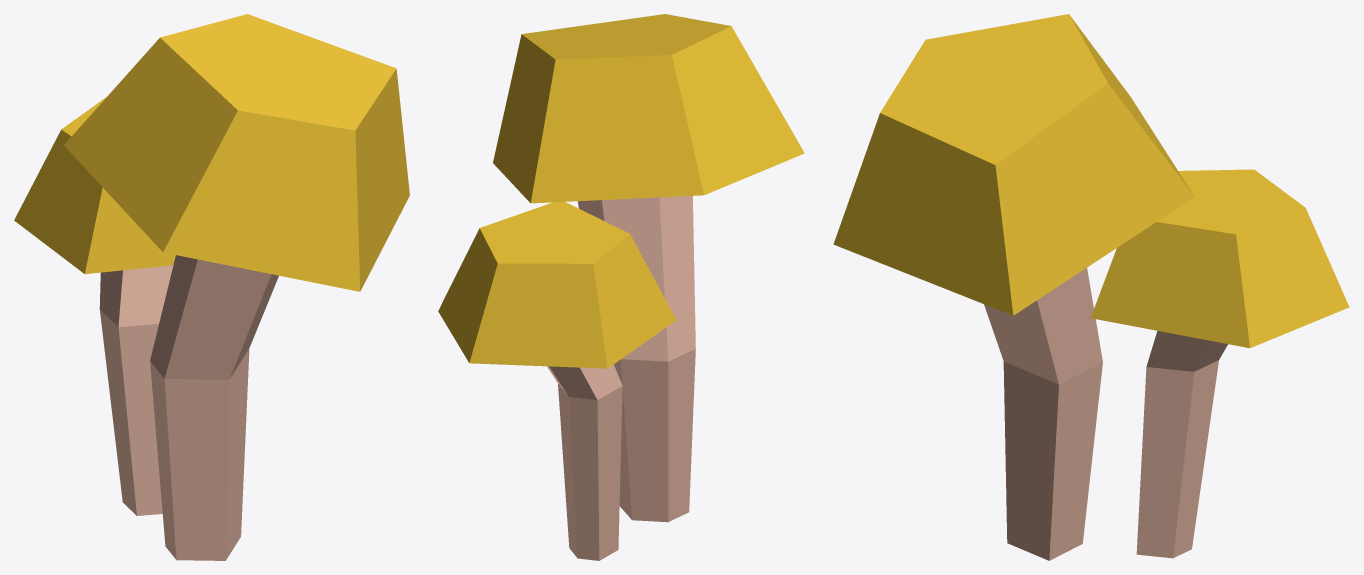
File: Mushroom_02.fbx
The picture shows the model from 3 angles, left to right: view 1: azimuth 30°, elevation 25°; view 2: azimuth 150°, elevation 25°; view 3: azimuth 270°, elevation 25°; orthographic projection. The views are drawn at different scales.
Parts seen in each view (by area): view 1: Mushroom_02; view 2: Mushroom_02; view 3: Mushroom_02.
Part boxes in pixels (left/top/right/bottom): Mushroom_02: left=14, top=14, right=409, bottom=560; Mushroom_02: left=438, top=14, right=804, bottom=560; Mushroom_02: left=833, top=14, right=1349, bottom=560.
Bounding box in the file's own units: 35.13 × 58.71 × 53.32.
